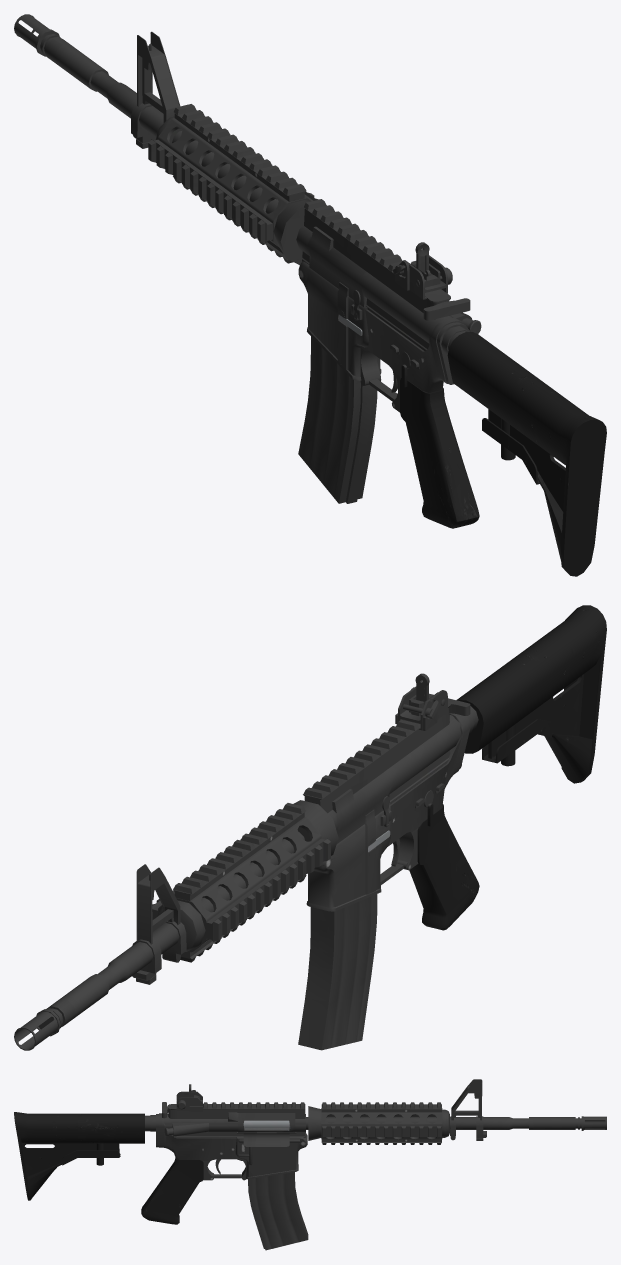
3 views of the same model, one above another, from view 1: azimuth 30°, elevation 25°; view 2: azimuth 150°, elevation 25°; view 3: azimuth 270°, elevation 25° (orthographic). The views are drawn at different scales.
Visible parts, largest first — view 1: Base, Barrel, Stock, Magazine, Sight; view 2: Base, Barrel, Stock, Magazine, Sight; view 3: Base, Barrel, Stock, Magazine, Ejector_Lid, Sight, Ejector.
Part boxes in pixels (bbox=[...]): Base: bbox=[296, 199, 481, 528]; Barrel: bbox=[14, 14, 318, 265]; Stock: bbox=[441, 326, 606, 576]; Magazine: bbox=[298, 336, 377, 503]; Sight: bbox=[395, 242, 447, 299]; Base: bbox=[303, 702, 479, 930]; Barrel: bbox=[14, 800, 338, 1050]; Stock: bbox=[456, 605, 606, 783]; Magazine: bbox=[298, 894, 377, 1050]; Sight: bbox=[395, 673, 447, 730]; Base: bbox=[141, 1102, 307, 1224]; Barrel: bbox=[306, 1079, 606, 1144]; Stock: bbox=[14, 1112, 155, 1200]; Magazine: bbox=[248, 1172, 308, 1250]; Ejector_Lid: bbox=[237, 1132, 296, 1146]; Sight: bbox=[176, 1084, 202, 1111]; Ejector: bbox=[243, 1120, 289, 1128].
Bounding box in the file's own units: 0.0636 × 0.2663 × 0.8588.
Materials: 1 (1 with a texture image).
